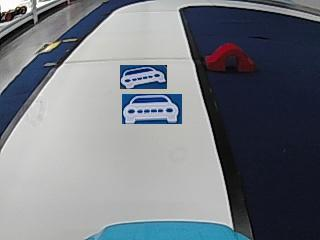bridge: (206, 41, 253, 72)
